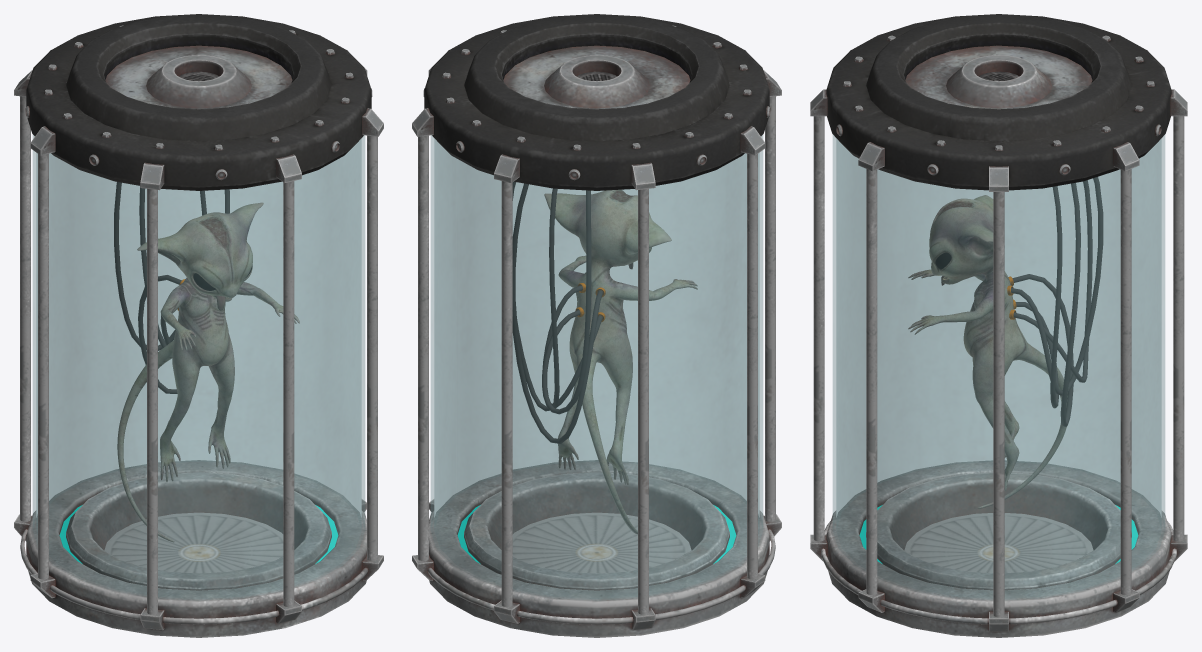
Rendered from specimen-en-bocal.glb.
The picture shows the model from 3 angles, left to right: view 1: azimuth 30°, elevation 25°; view 2: azimuth 150°, elevation 25°; view 3: azimuth 270°, elevation 25°; orthographic projection.
Parts seen in each view (by area): view 1: Object_3, Object_2; view 2: Object_3, Object_2; view 3: Object_3, Object_2.
Part boxes in pixels (x1,y1,x2,y2): Object_3: (14, 14, 383, 637); Object_2: (117, 202, 299, 542); Object_3: (412, 14, 781, 637); Object_2: (544, 189, 697, 533); Object_3: (810, 14, 1187, 637); Object_2: (908, 195, 1067, 508).
Size of the model in its own units: 0.3449 by 0.5029 by 0.3449.
2 materials, 2 textured.
